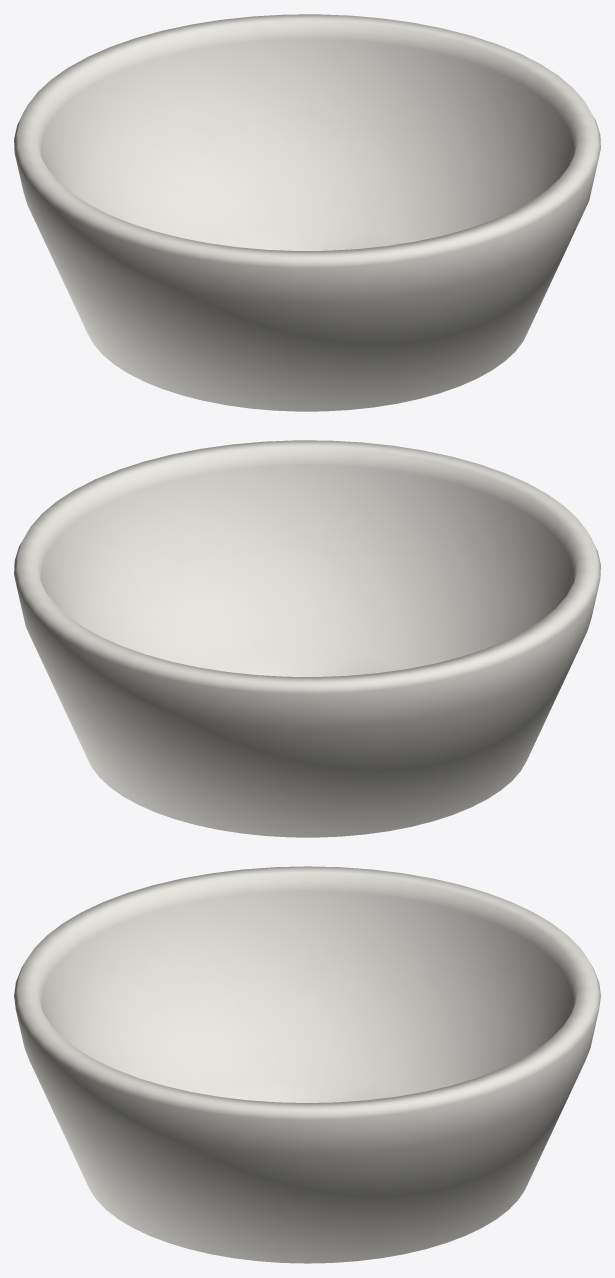
3 views of the same model, one above another, from view 1: azimuth 30°, elevation 25°; view 2: azimuth 150°, elevation 25°; view 3: azimuth 270°, elevation 25° (orthographic).
Parts seen in each view (by area): view 1: Basin | hollow ceramic vessel; view 2: Basin | hollow ceramic vessel; view 3: Basin | hollow ceramic vessel.
Part boxes in pixels (x1=…): Basin | hollow ceramic vessel: x1=14, y1=14, x2=600, y2=411; Basin | hollow ceramic vessel: x1=14, y1=440, x2=600, y2=837; Basin | hollow ceramic vessel: x1=14, y1=866, x2=600, y2=1263.
Bounding box in the file's own units: 0.436 × 0.17 × 0.436.
Materials: 2 (2 with a texture image).
